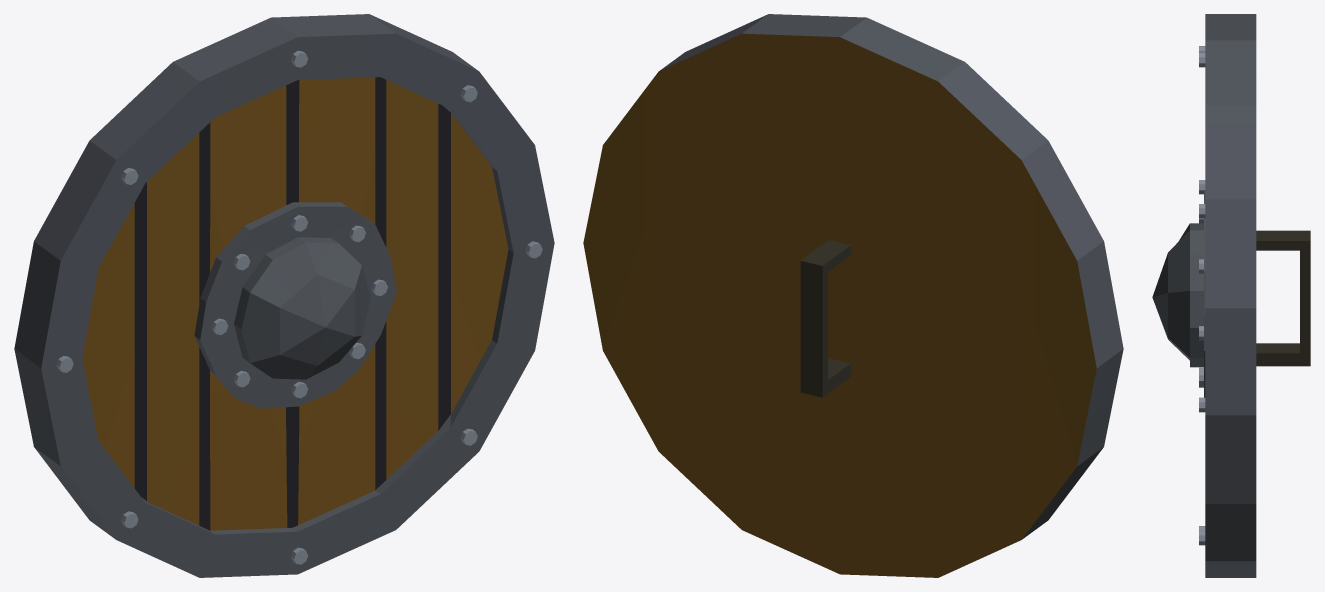
File: starter_shield.fbx
3 renders of one model, left to right at view 1: azimuth 30°, elevation 25°; view 2: azimuth 150°, elevation 25°; view 3: azimuth 270°, elevation 25°, orthographic. The views are drawn at different scales.
Visible parts, largest first — view 1: starter_shield; view 2: starter_shield; view 3: starter_shield.
Part boxes in pixels (x1,y1,x2,y2): starter_shield: (14, 14, 554, 577); starter_shield: (583, 14, 1123, 577); starter_shield: (1152, 14, 1310, 577).
Size of the model in its own units: 1 by 1 by 0.2808.
